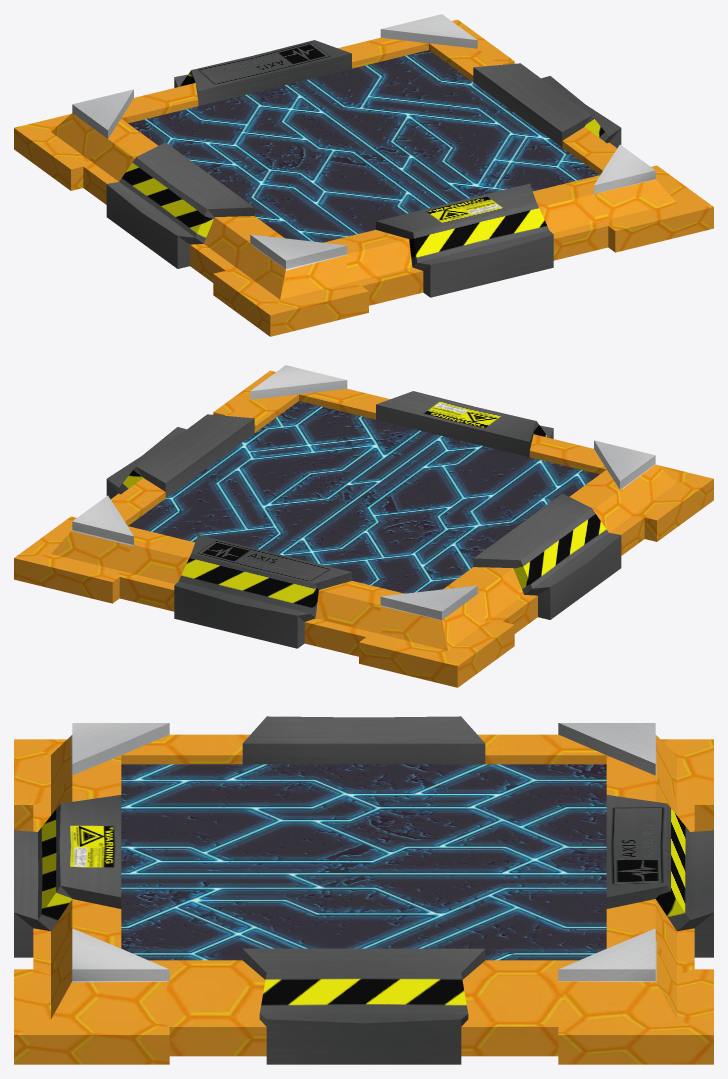
Rendered from RevivePad.fbx.
3 renders of one model, top to bottom at view 1: azimuth 30°, elevation 25°; view 2: azimuth 150°, elevation 25°; view 3: azimuth 270°, elevation 25°, orthographic. The views are drawn at different scales.
Parts seen in each view (by area): view 1: Box001; view 2: Box001; view 3: Box001.
Boxes of the visible parts, x1,y1,x2,y2 form: Box001: (14,14,713,336); Box001: (14,365,713,687); Box001: (14,716,713,1064).
Size of the model in its own units: 54 by 6.12 by 54.
1 material, 1 textured.
